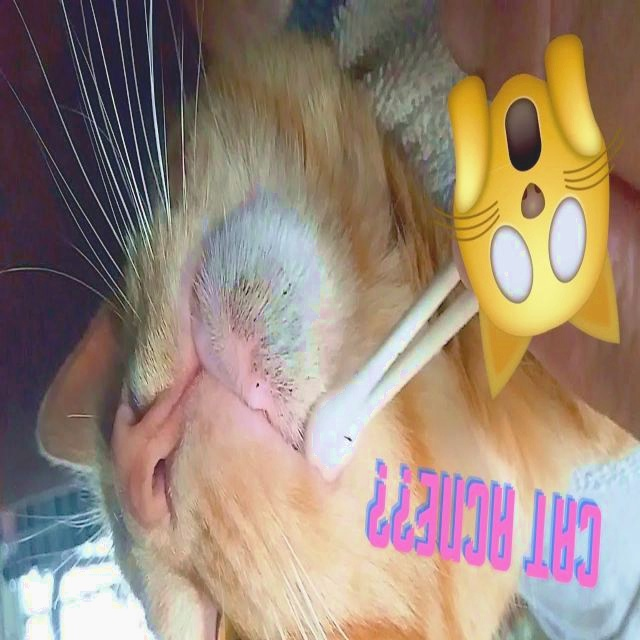acne: (220, 240, 304, 404)
